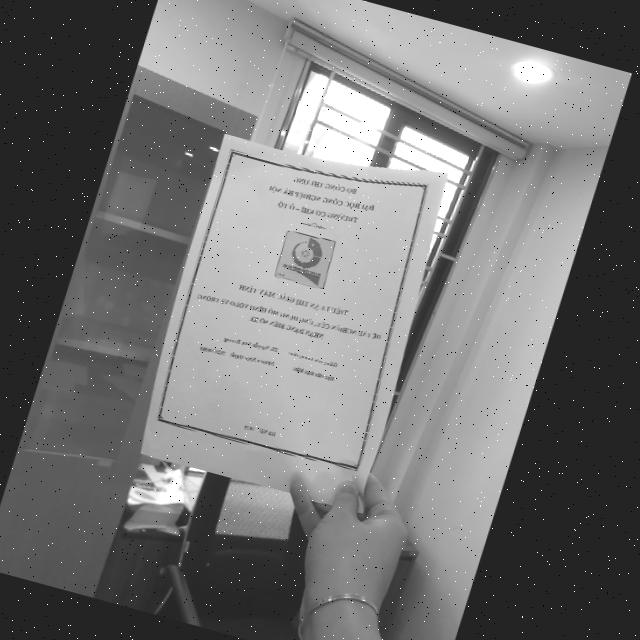document: (140, 134, 448, 515)
